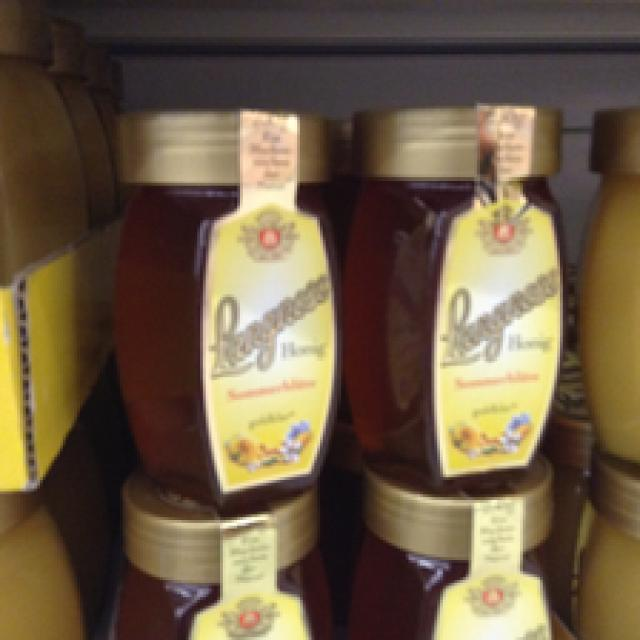groceries: (86, 103, 337, 500), (346, 100, 563, 486)
